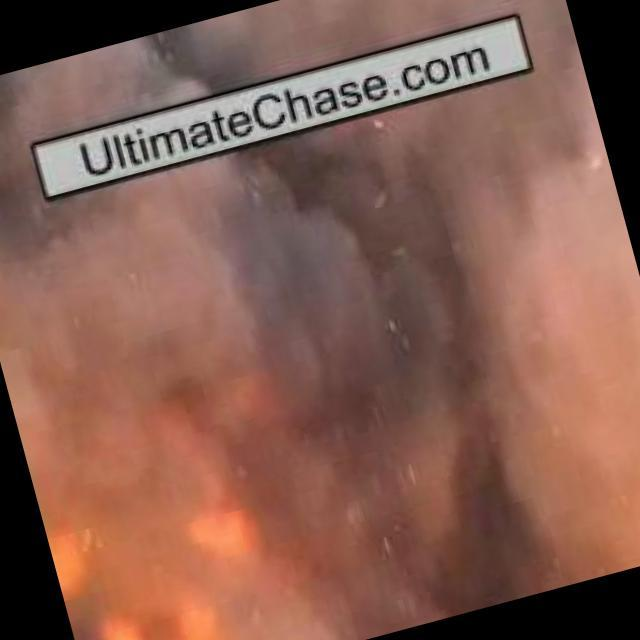Fire: (4, 303, 361, 640)
